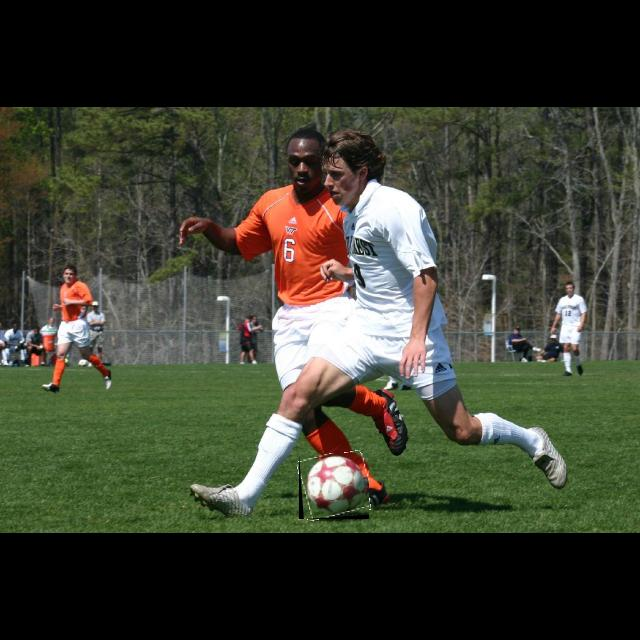Football: (299, 453, 369, 519)
